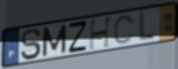C: (113, 14, 136, 46)
H: (88, 15, 114, 52)
L: (137, 9, 158, 43)
M: (41, 23, 68, 58)
S: (20, 27, 43, 61)
Z: (68, 19, 88, 55)
